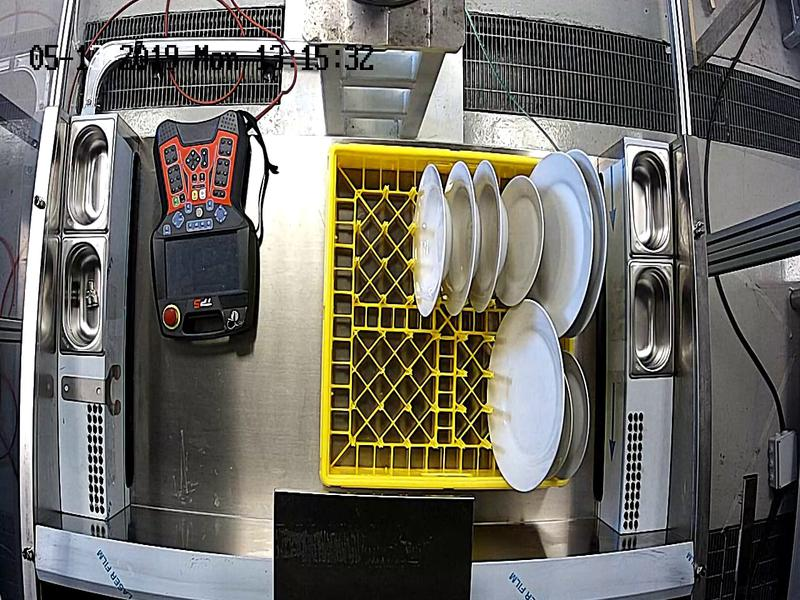Dish: (486, 300, 565, 493), (544, 150, 598, 336), (411, 165, 449, 315), (449, 160, 480, 324), (508, 175, 543, 305), (482, 159, 506, 317), (566, 343, 590, 488), (591, 155, 611, 309), (555, 380, 573, 484)
